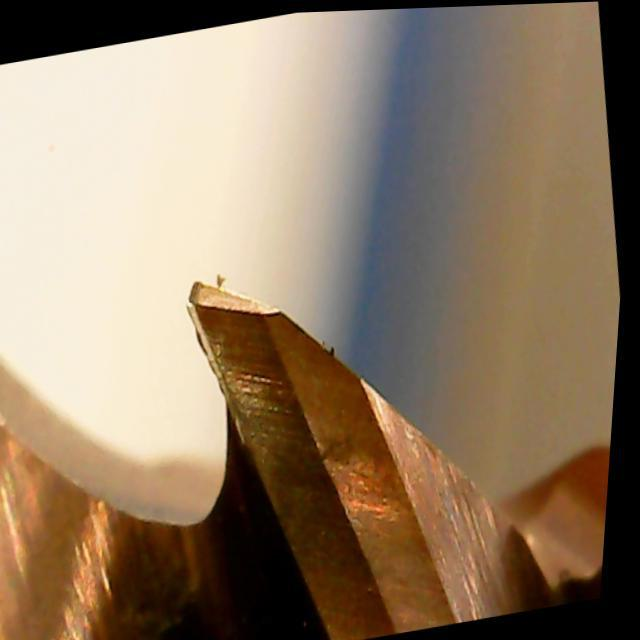Tool-wear-class-1: (166, 241, 347, 488)
